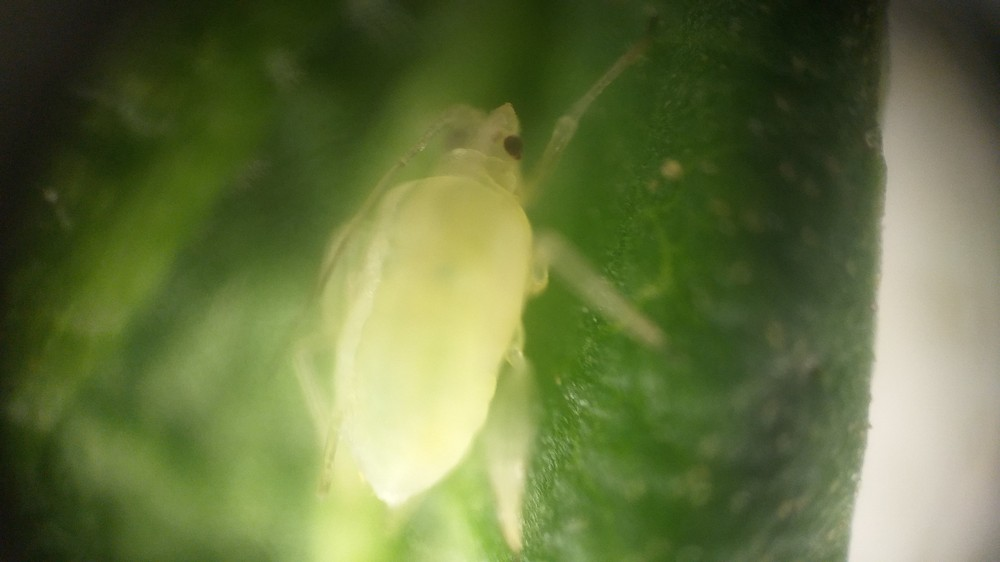Pulgon: (264, 49, 692, 559)
